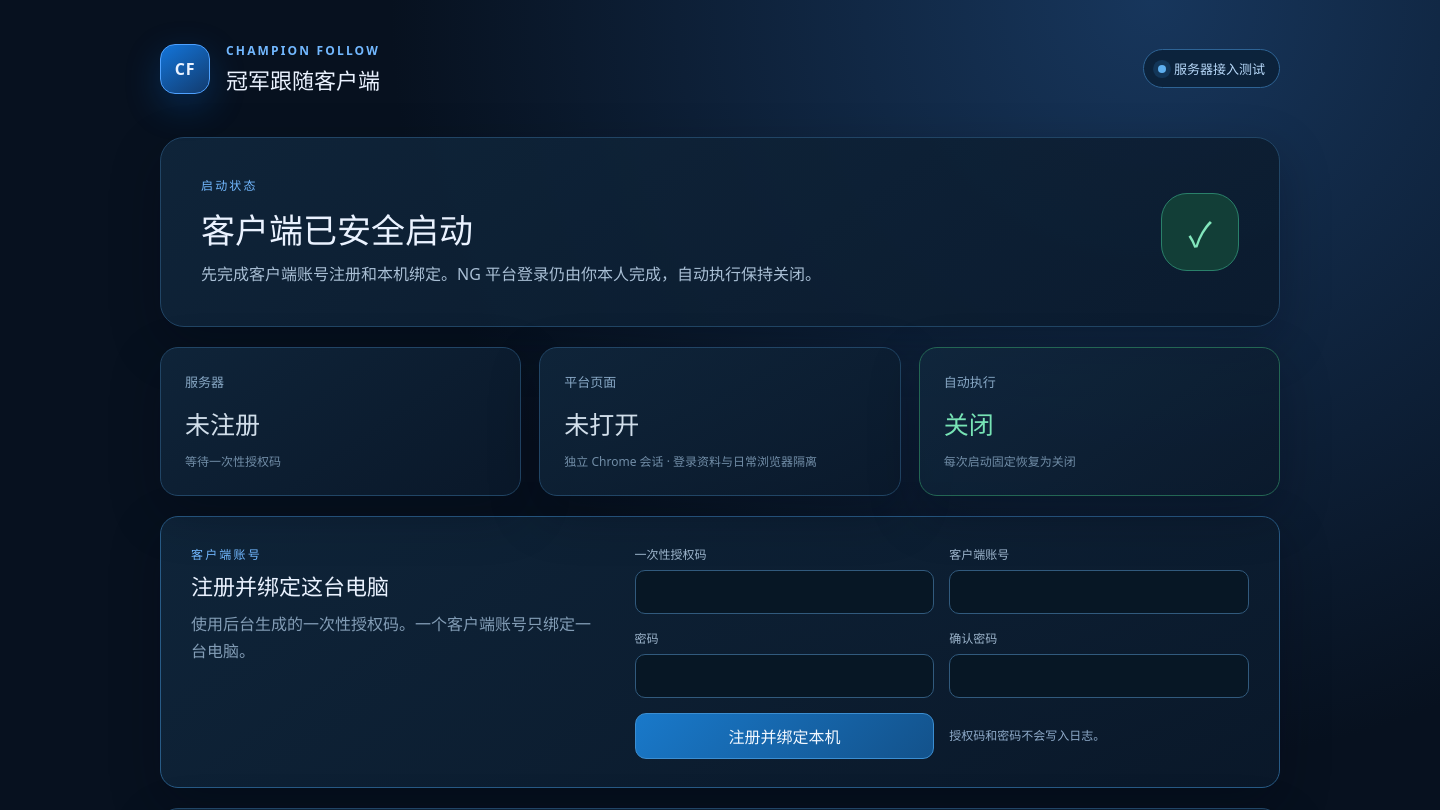
Test: App registration state › shows a prominent dialog when registration is rejected
Step 1. Type "aaaaaaaaaaaaaaaaaaaaaaaaaaaaaaaaaaaaaaaaaaaaaaaa" into the field labelled "一次性授权码" → (784, 592), box x1=635 y1=570 x2=934 y2=614
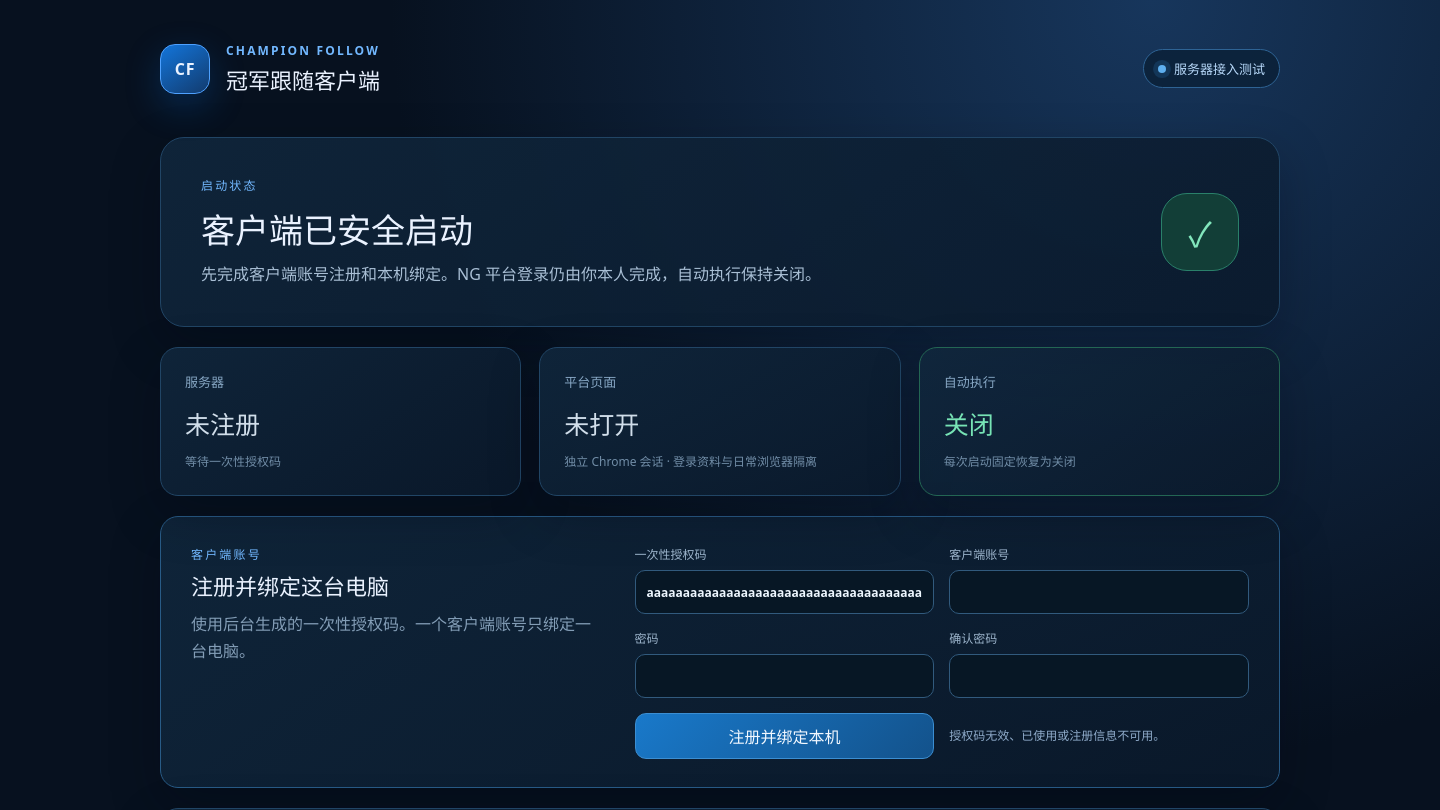
Step 2. Type "client-user" into the field labelled "客户端账号" → (1099, 592), box x1=949 y1=570 x2=1249 y2=614
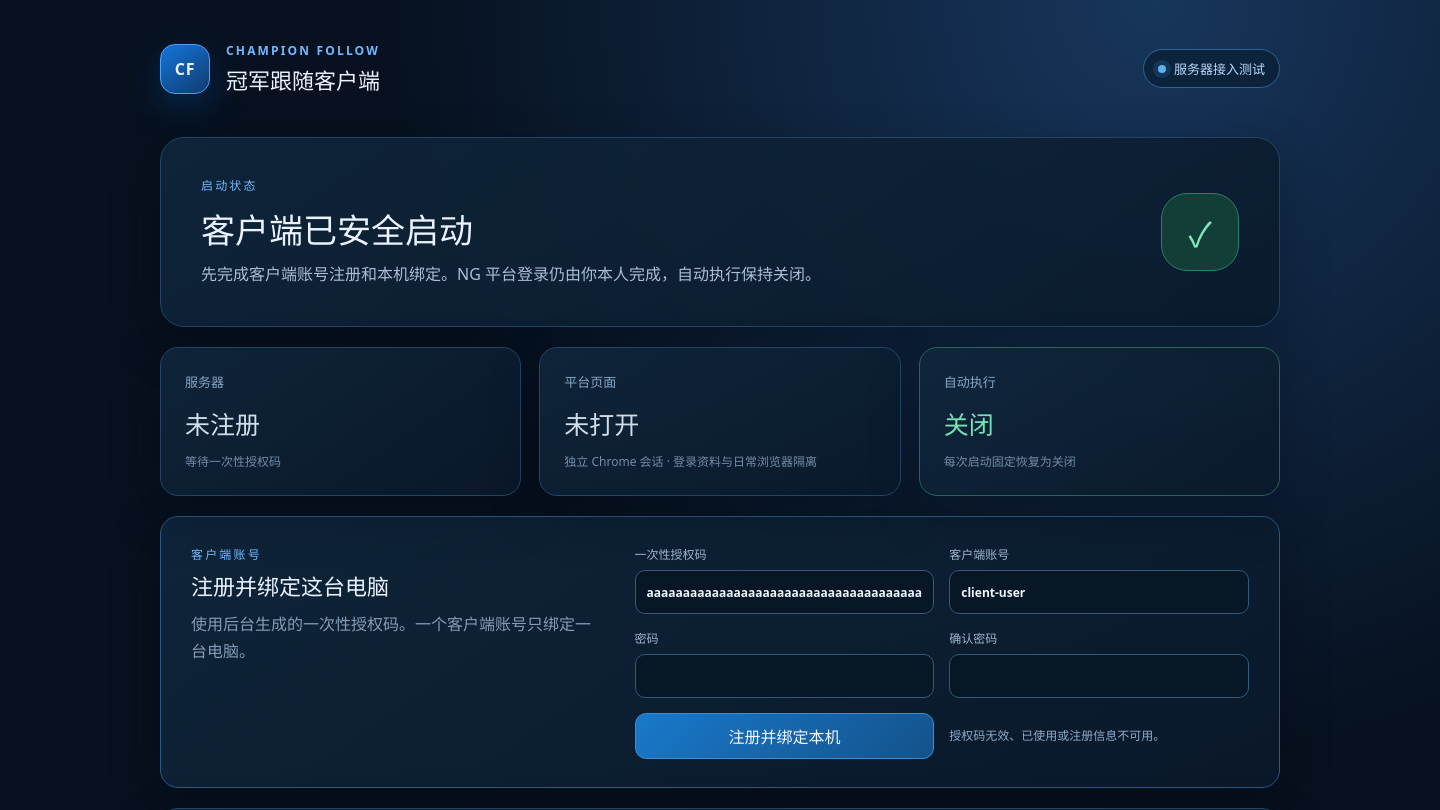
Step 3. Type "example-password" into the password field labelled "密码" → (784, 676), box x1=635 y1=654 x2=934 y2=698
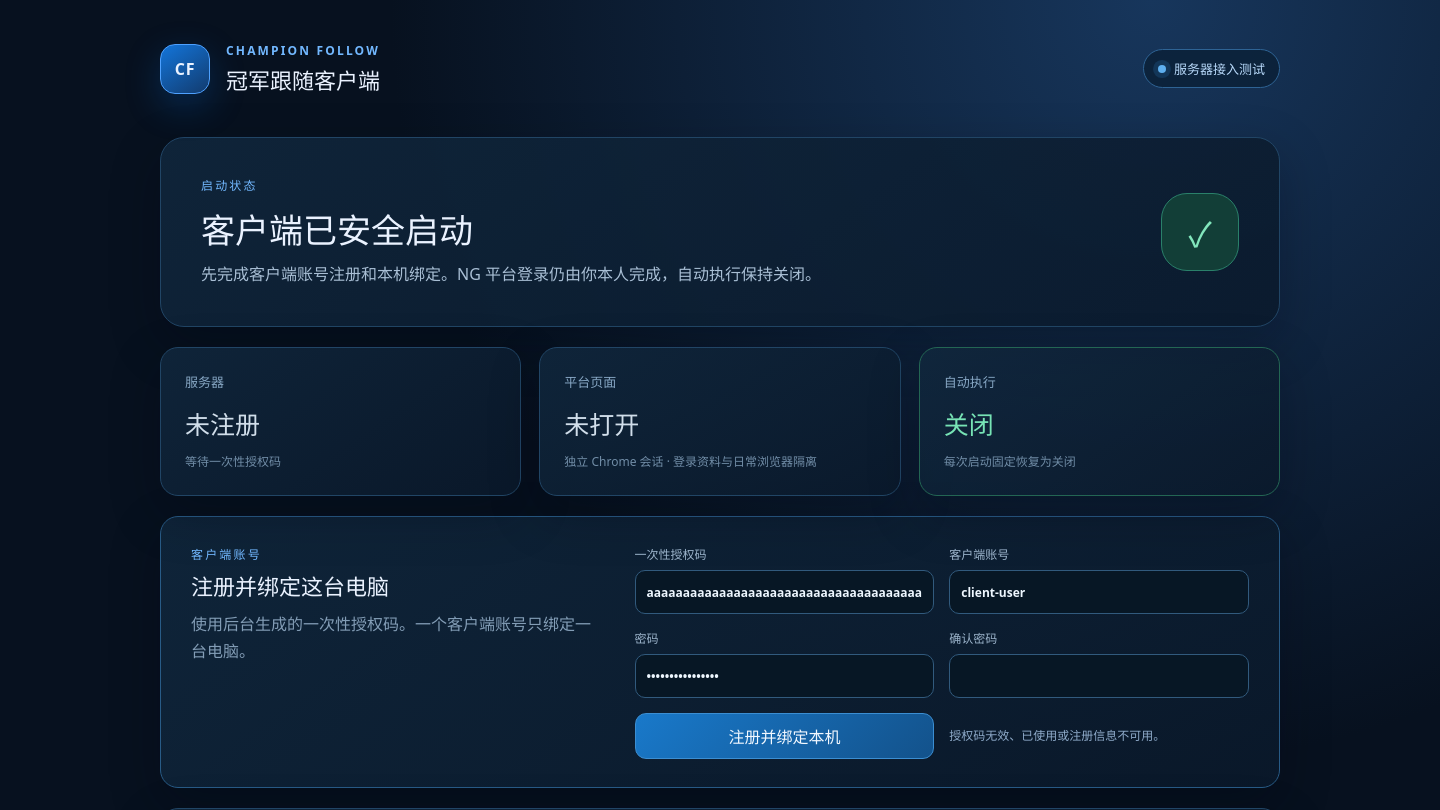
Step 4. Type "example-password" into the password field labelled "确认密码" → (1099, 676), box x1=949 y1=654 x2=1249 y2=698
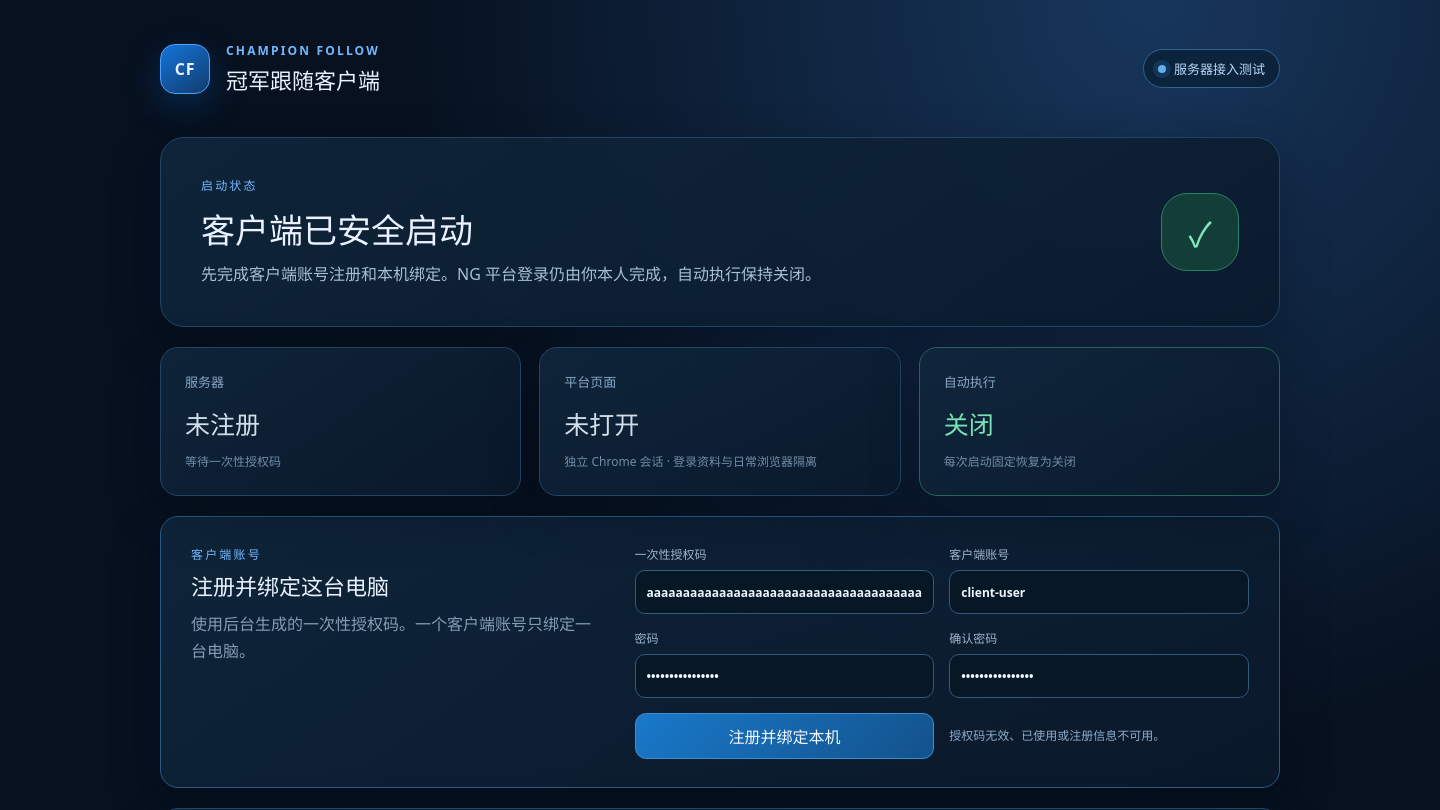
Step 5. Click the button "注册并绑定本机" → (784, 736), box x1=635 y1=713 x2=934 y2=759
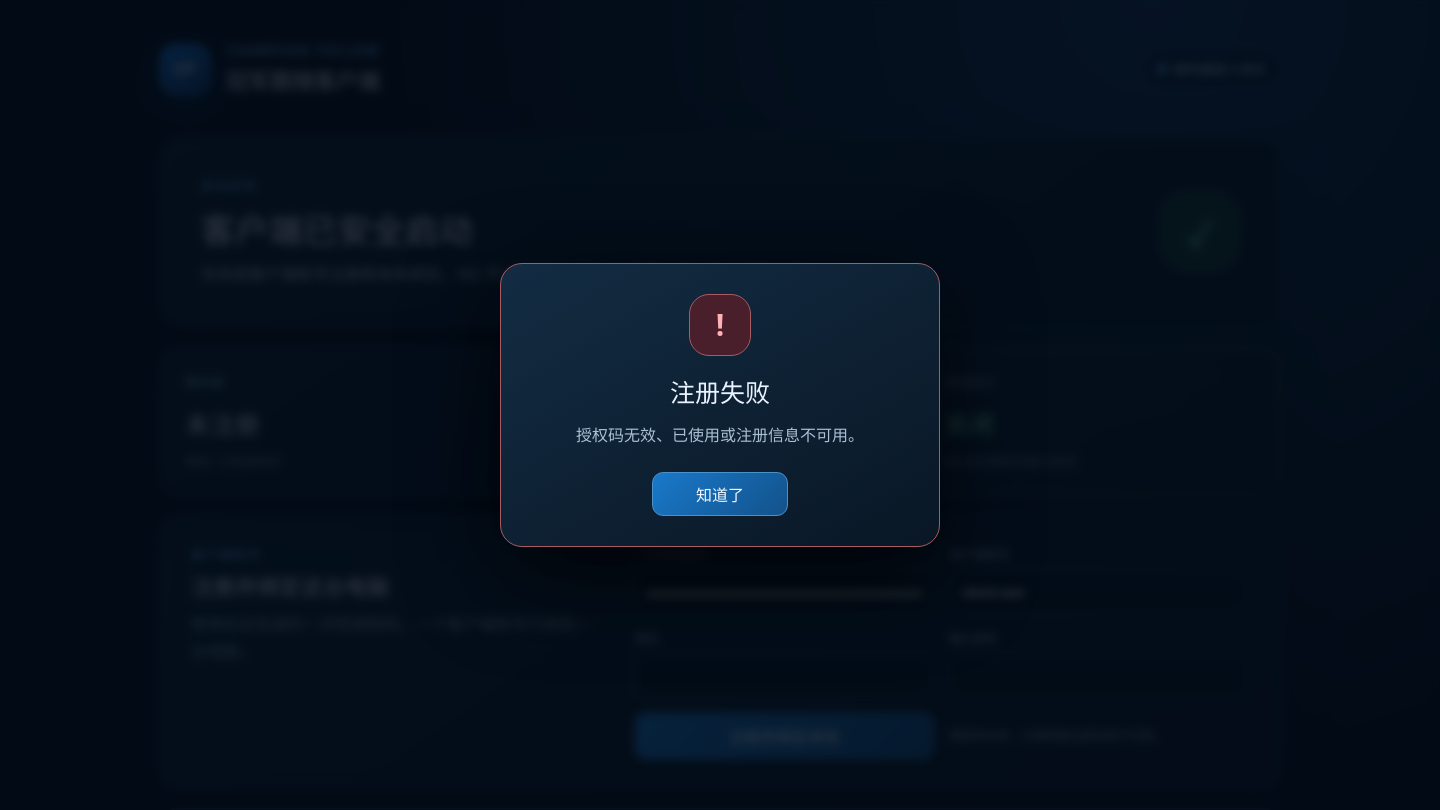
Check: the dialog "注册失败" is shown, box x1=500 y1=263 x2=940 y2=547
Check: the dialog "注册失败" shows "授权码无效、已使用或注册信息不可用。", box x1=576 y1=424 x2=864 y2=446
Check: the button "知道了" is shown, box x1=652 y1=472 x2=788 y2=516
